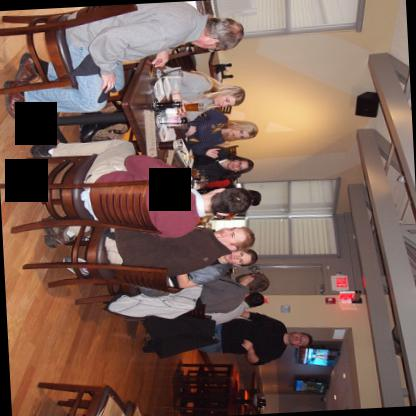handbag: (91, 124, 129, 140)
